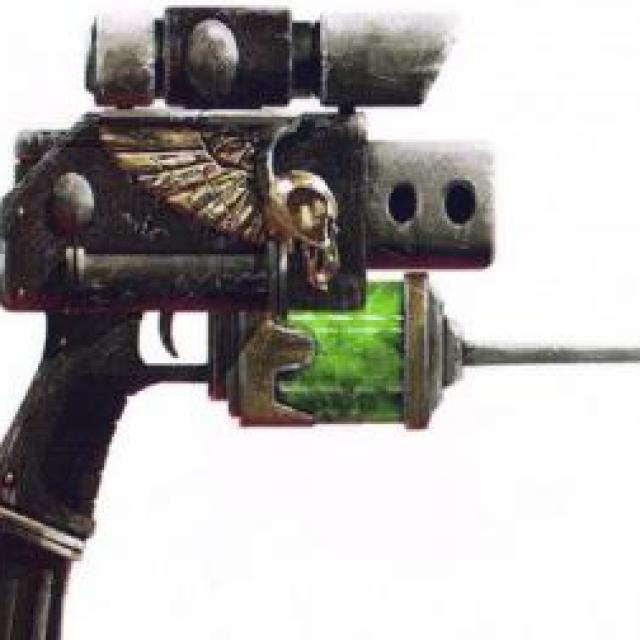pistol: (0, 12, 487, 640)
